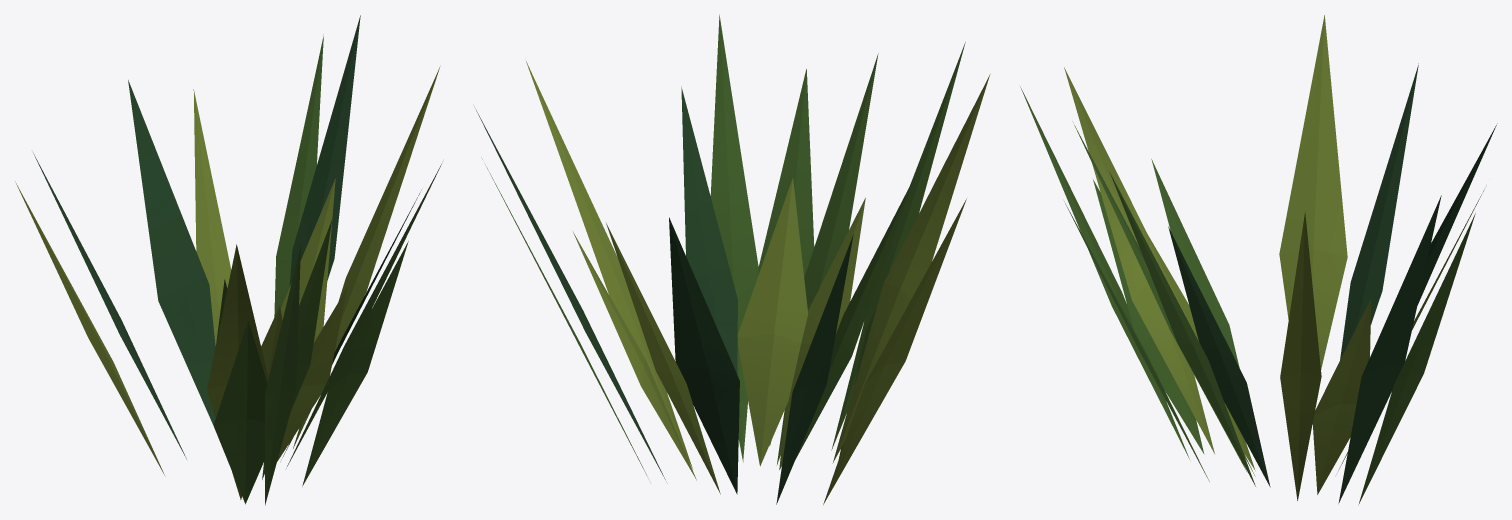
Rendered from b13_grass_small.fbx.
3 renders of one model, left to right at view 1: azimuth 30°, elevation 25°; view 2: azimuth 150°, elevation 25°; view 3: azimuth 270°, elevation 25°, orthographic. The views are drawn at different scales.
Parts seen in each view (by area): view 1: b13_grass_small; view 2: b13_grass_small; view 3: b13_grass_small.
Boxes of the visible parts, x1=… form: b13_grass_small: x1=15, y1=15, x2=441, y2=505; b13_grass_small: x1=474, y1=14, x2=990, y2=504; b13_grass_small: x1=1020, y1=15, x2=1497, y2=504.
Size of the model in its own units: 4651 by 4317 by 3769.
